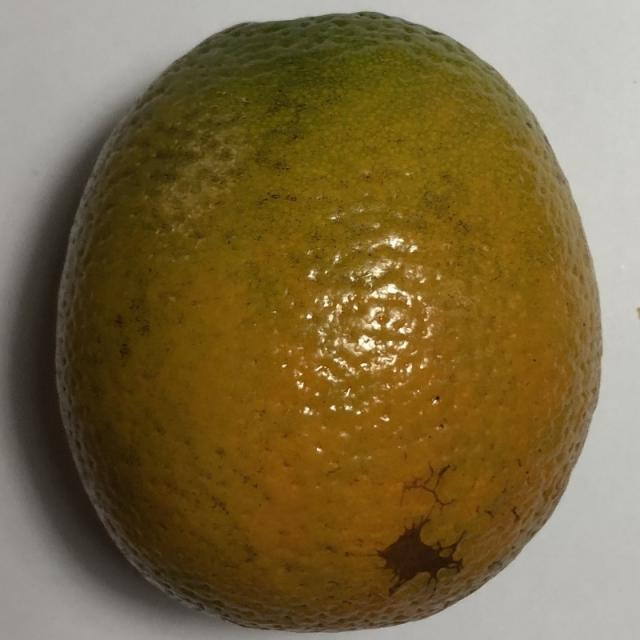blackspot: (36, 2, 601, 639)
